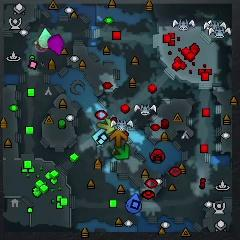p1: (125, 193, 142, 214)
p2: (38, 28, 52, 51)
p3: (48, 35, 65, 56)
x2: (96, 116, 114, 136)
x3: (92, 127, 111, 145)
x4: (113, 144, 130, 160)
x5: (109, 129, 128, 146)
